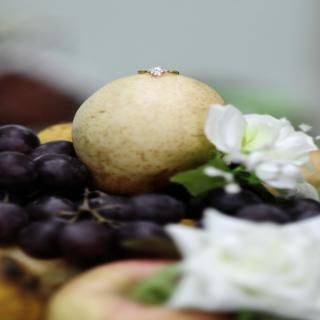Grape: (0, 125, 320, 266)
